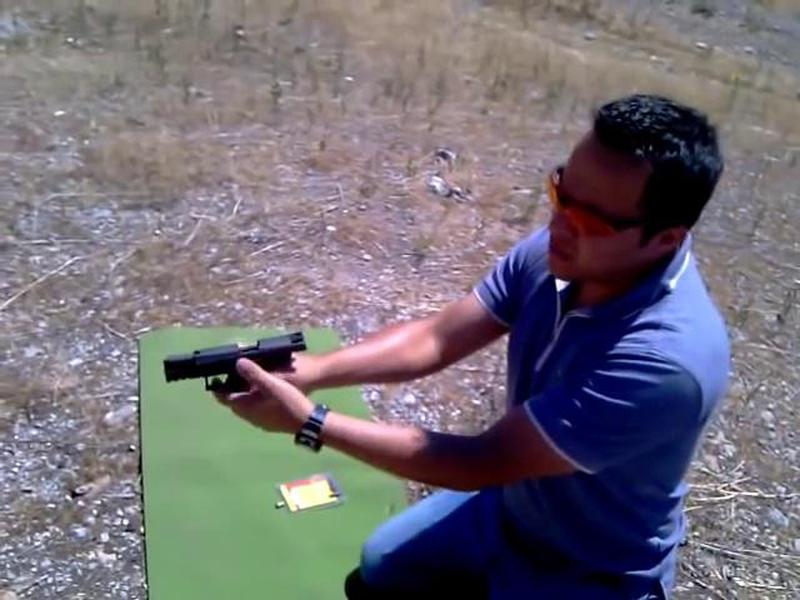Pistola: (154, 329, 325, 403)
